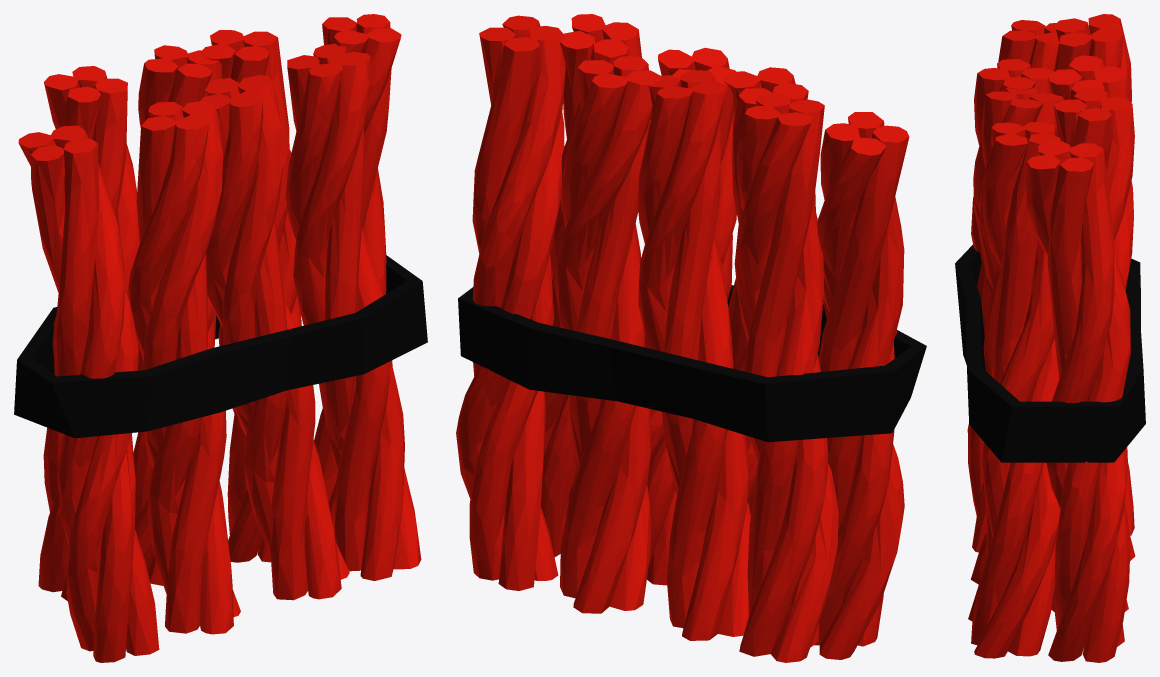
Rendered from Licorice.glb.
The picture shows the model from 3 angles, left to right: view 1: azimuth 30°, elevation 25°; view 2: azimuth 150°, elevation 25°; view 3: azimuth 270°, elevation 25°; orthographic projection. The views are drawn at different scales.
Parts seen in each view (by area): view 1: model_0.004; view 2: model_0.004; view 3: model_0.004.
Part boxes in pixels (box(x1,y1,x2,y2)): model_0.004: box(14, 14, 427, 662); model_0.004: box(456, 14, 926, 662); model_0.004: box(955, 14, 1145, 662).
Size of the model in its own units: 85.01 by 111 by 36.57.
